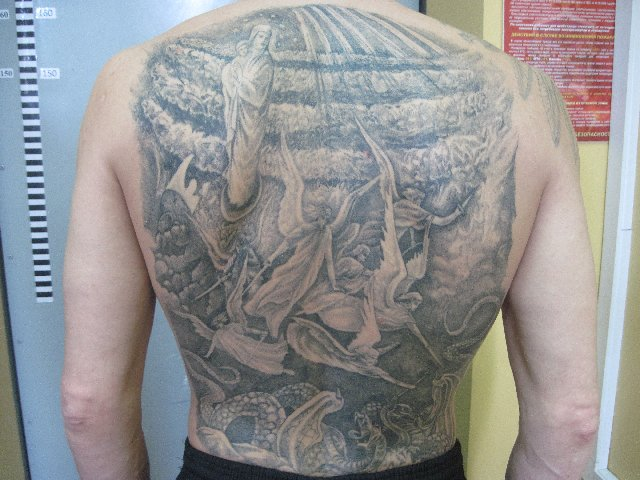tatu1_angel: (264, 151, 456, 398), (166, 242, 298, 390)
tatu2_bogorodica: (224, 16, 276, 215)
tatu7_zmeya: (182, 352, 462, 468)
